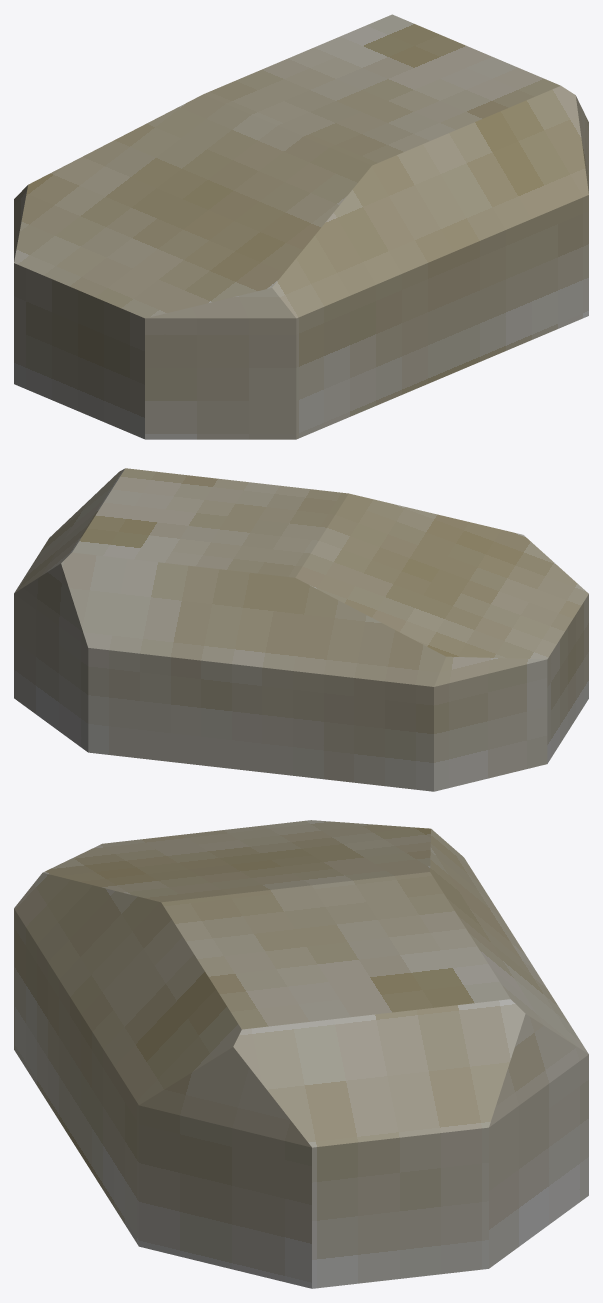
The model's file is mouse.glb.
3 views of the same model, one above another, from view 1: azimuth 30°, elevation 25°; view 2: azimuth 150°, elevation 25°; view 3: azimuth 270°, elevation 25° (orthographic). The views are drawn at different scales.
Parts seen in each view (by area): view 1: Mouse; view 2: Mouse; view 3: Mouse.
Part boxes in pixels (x1,y1,x2,y2): Mouse: (14,14,588,439); Mouse: (14,468,588,791); Mouse: (14,820,588,1288).
Size of the model in its own units: 0.1453 by 0.0468 by 0.1078.
1 material, 1 textured.
